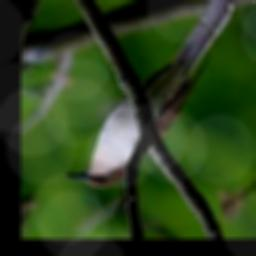Cuckoo: (64, 0, 243, 189)
